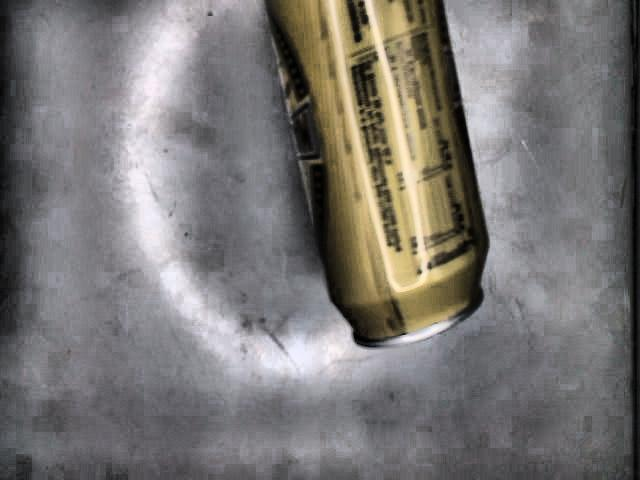Bottles: (263, 0, 489, 349)
